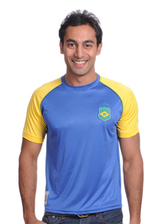clothoes: (23, 75, 143, 214)
